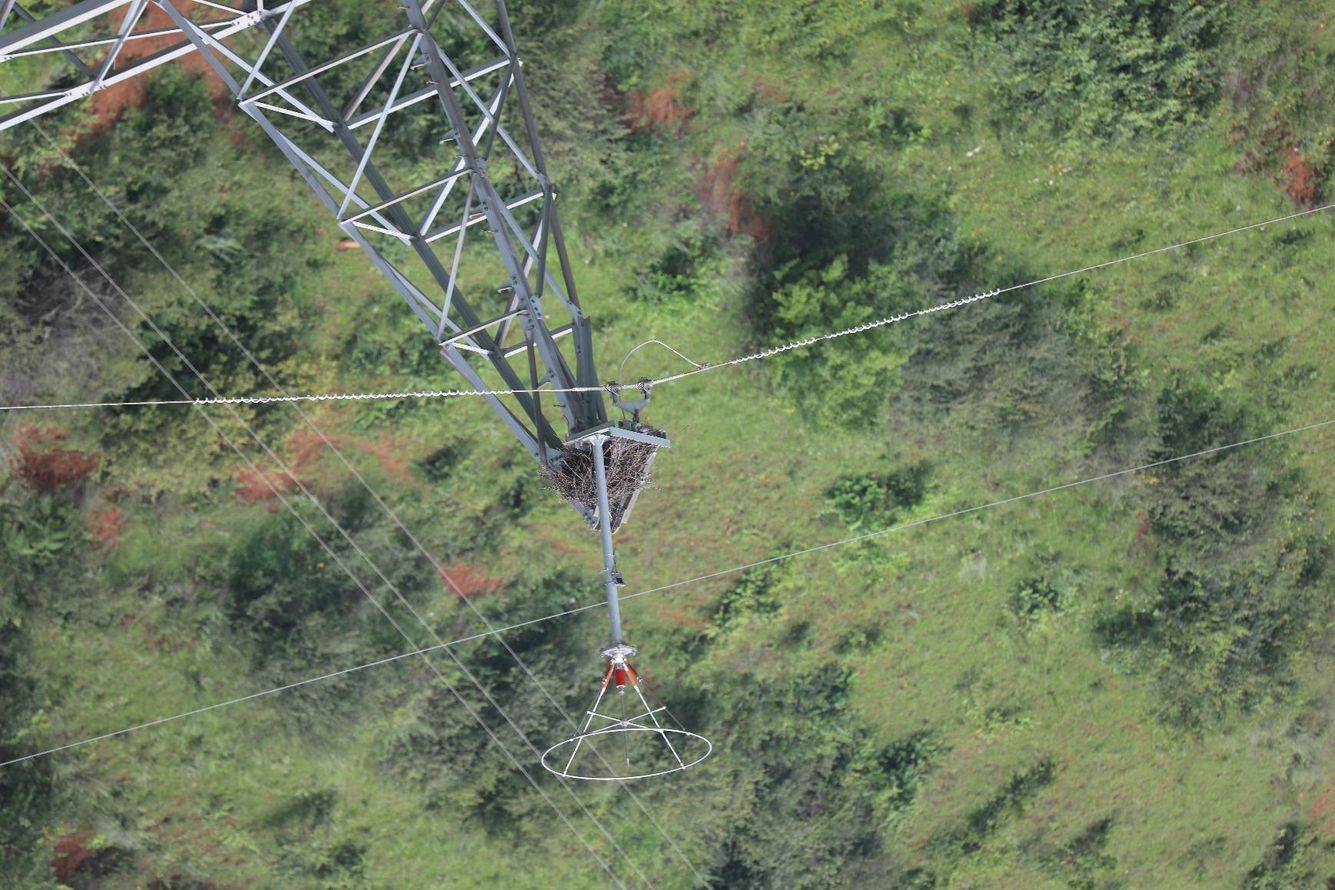nest: (540, 438, 659, 511)
